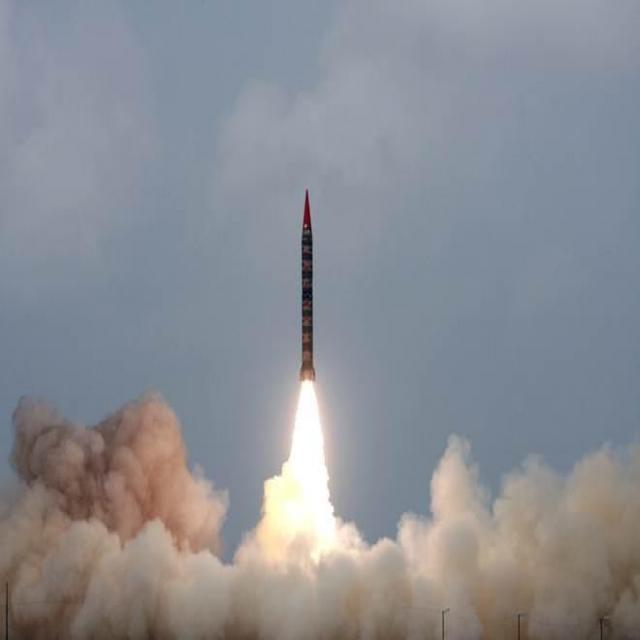Missile: (295, 177, 323, 388)
